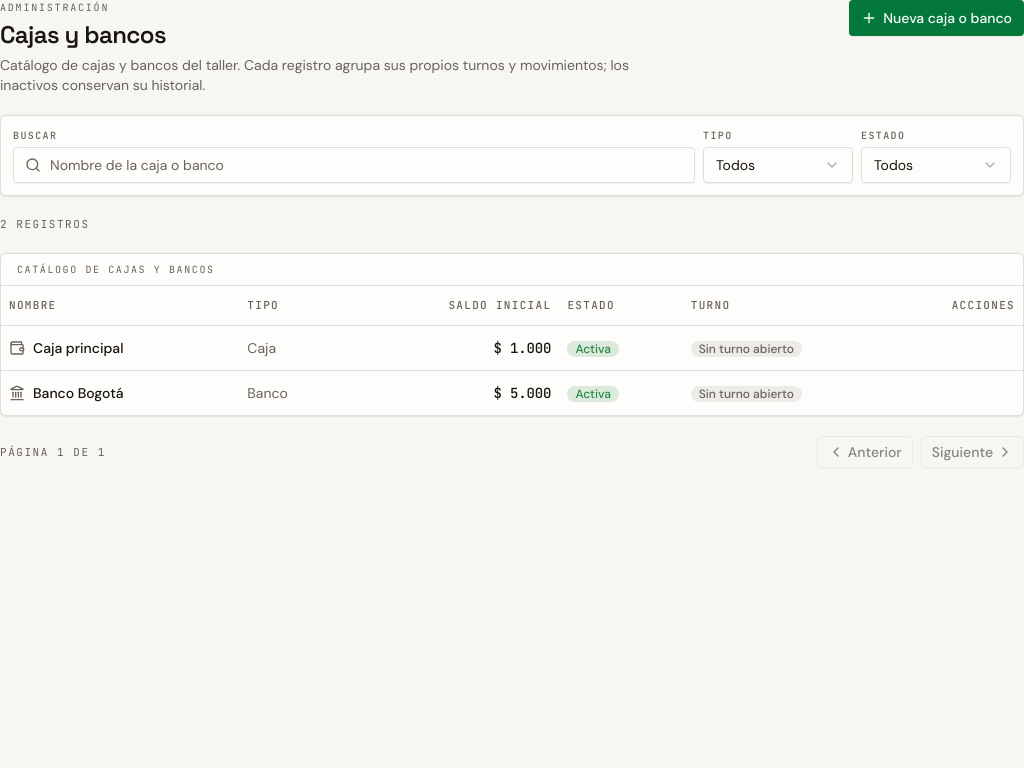
Test: CashRegistersPage (catálogo) › surfaces the duplicate-name error from the backend
Click the button with test id "caja.registers.create_button": (937, 18) [849, 0, 1023, 36]
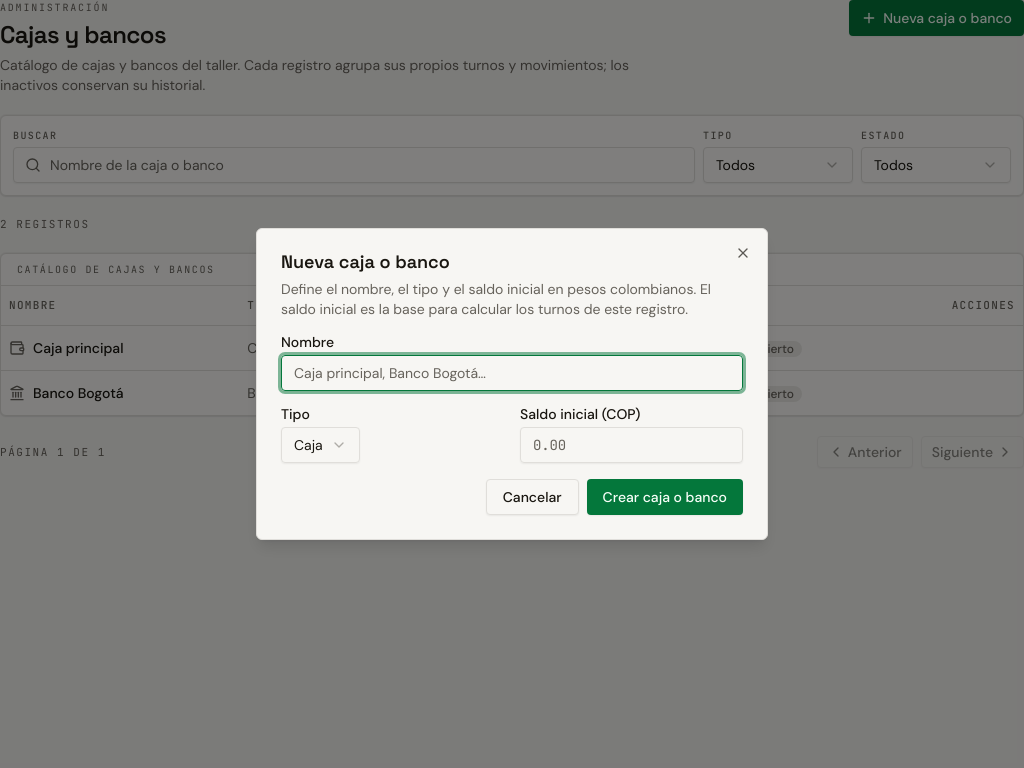
In the field with test id "caja.registers.name_input": (512, 373) [281, 355, 743, 391], type "Caja principal"
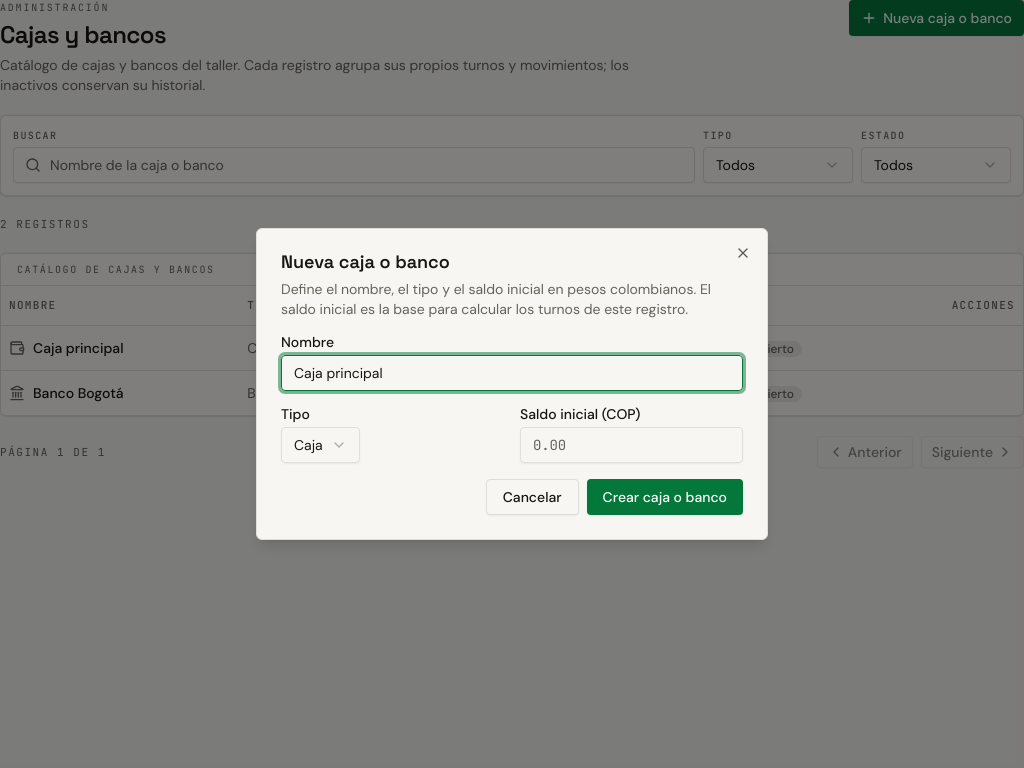
In the field with test id "caja.registers.opening_balance_input": (632, 445) [520, 427, 743, 463], type "0"
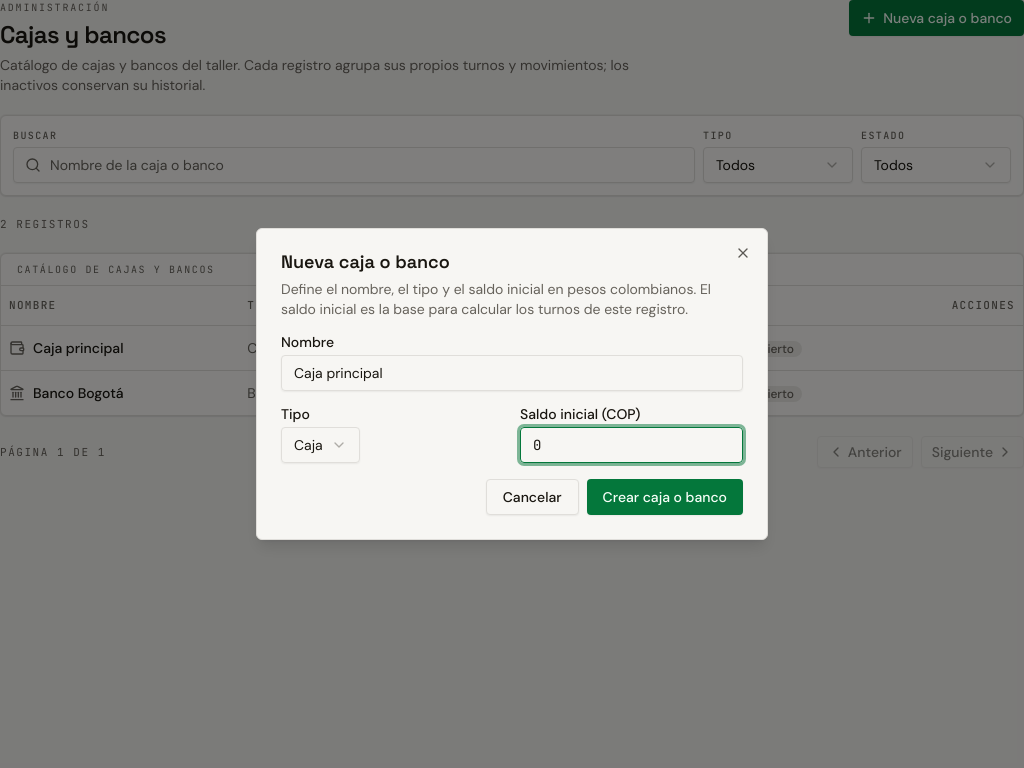
Click the button with test id "caja.registers.submit_button": (665, 497) [587, 479, 743, 515]
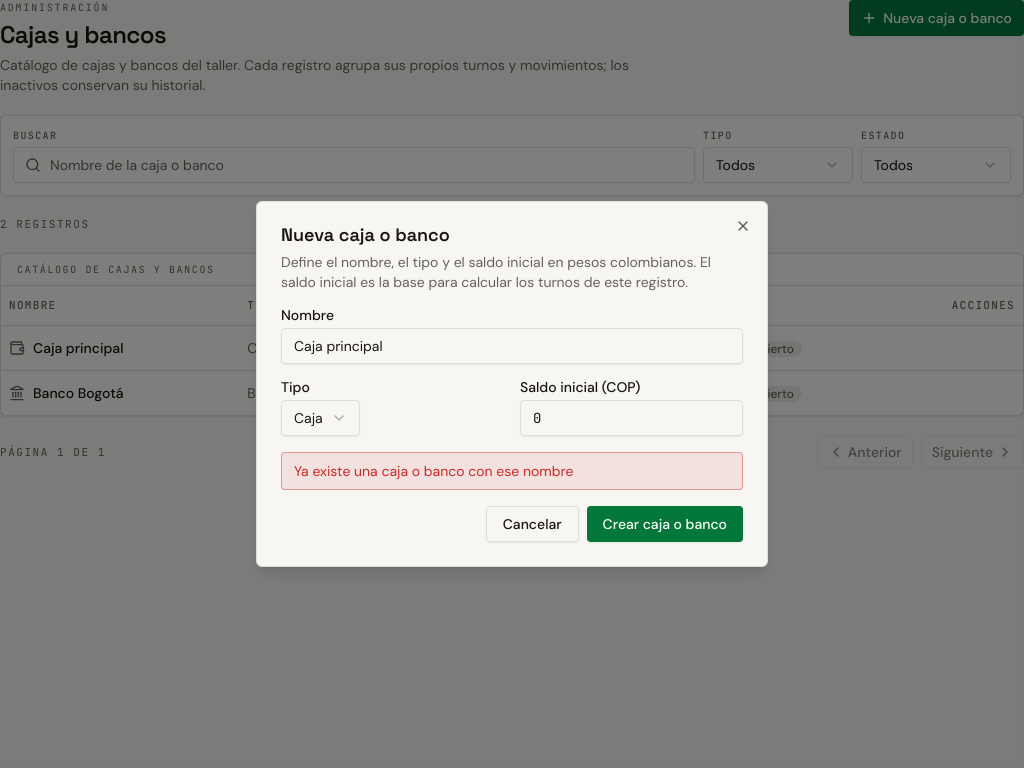
Check: the text with test id "caja.registers.error_state" reads "Ya existe una caja o banco con ese nombre", box [294, 462, 574, 480]
